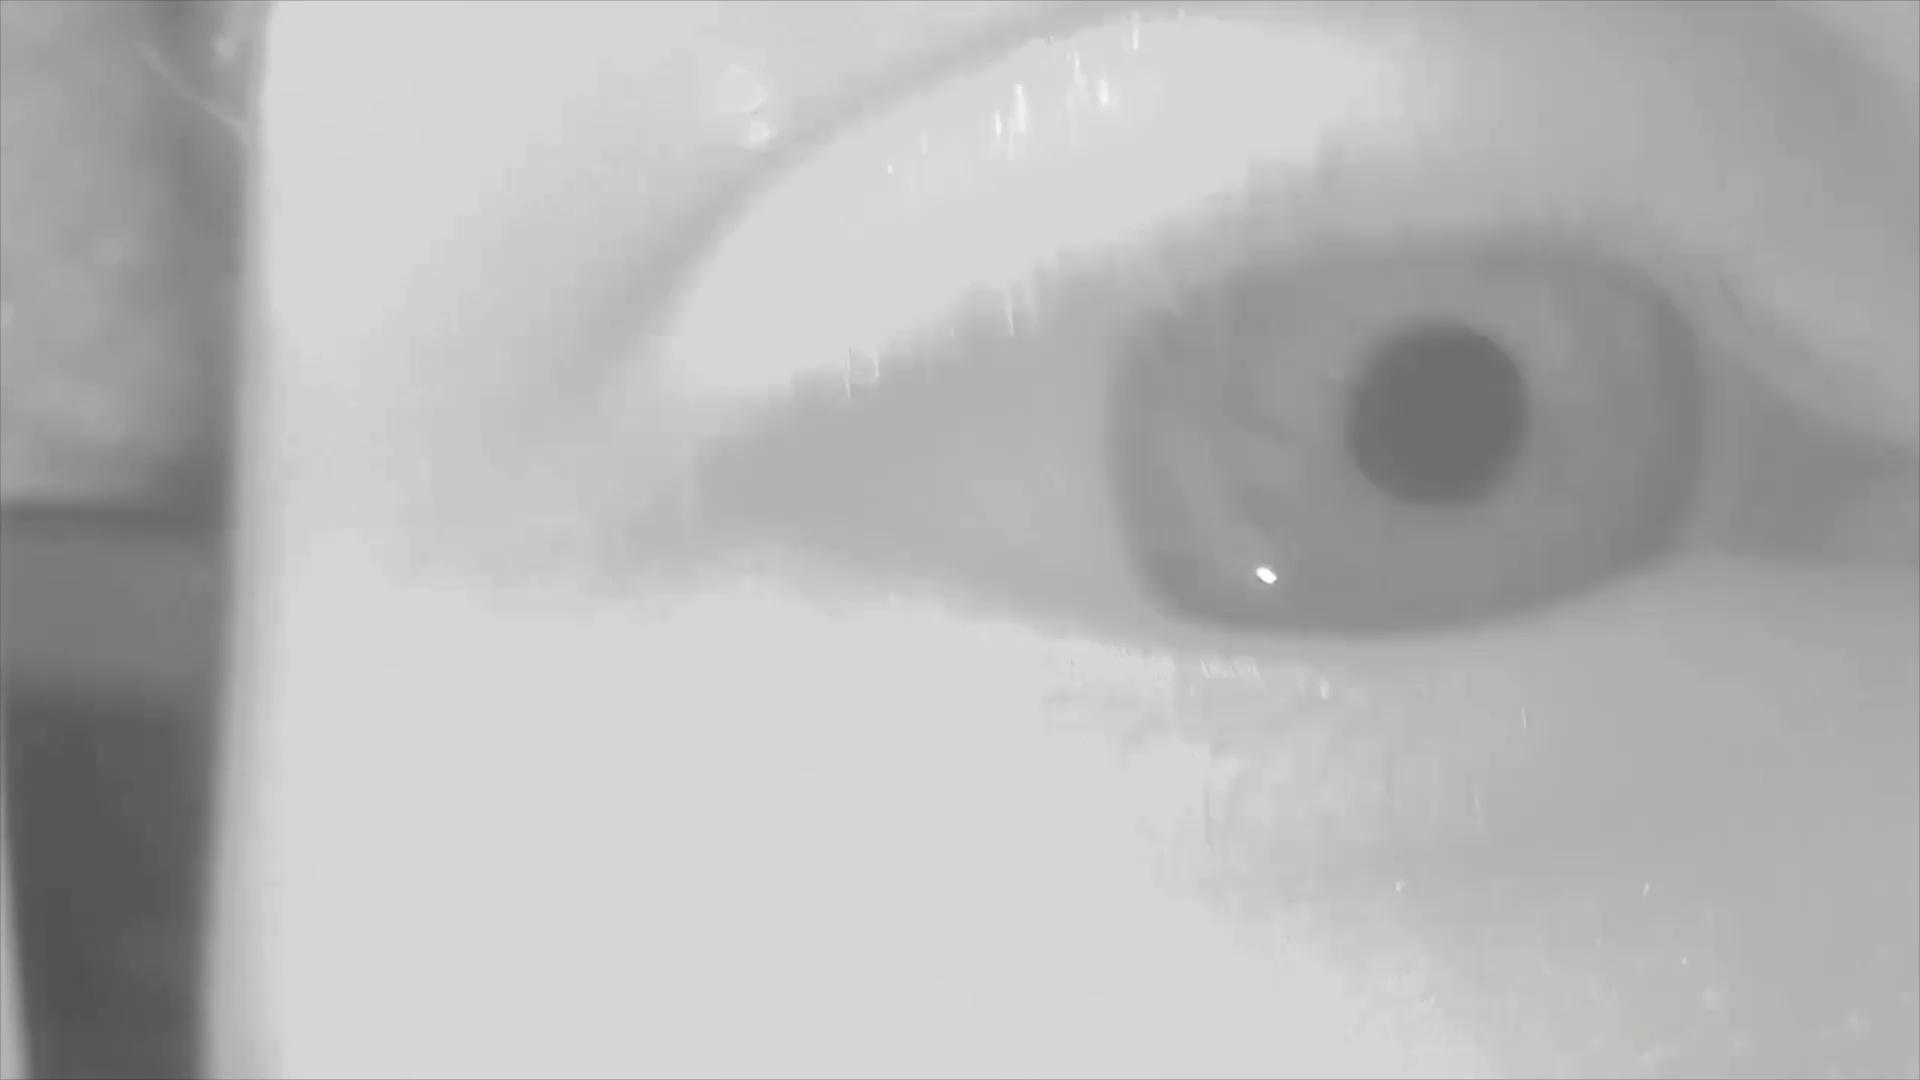pupil: (1349, 323, 1524, 510)
